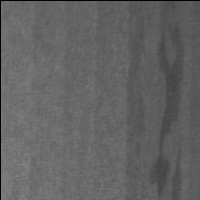inclusion: (149, 20, 192, 200), (121, 2, 150, 200)
